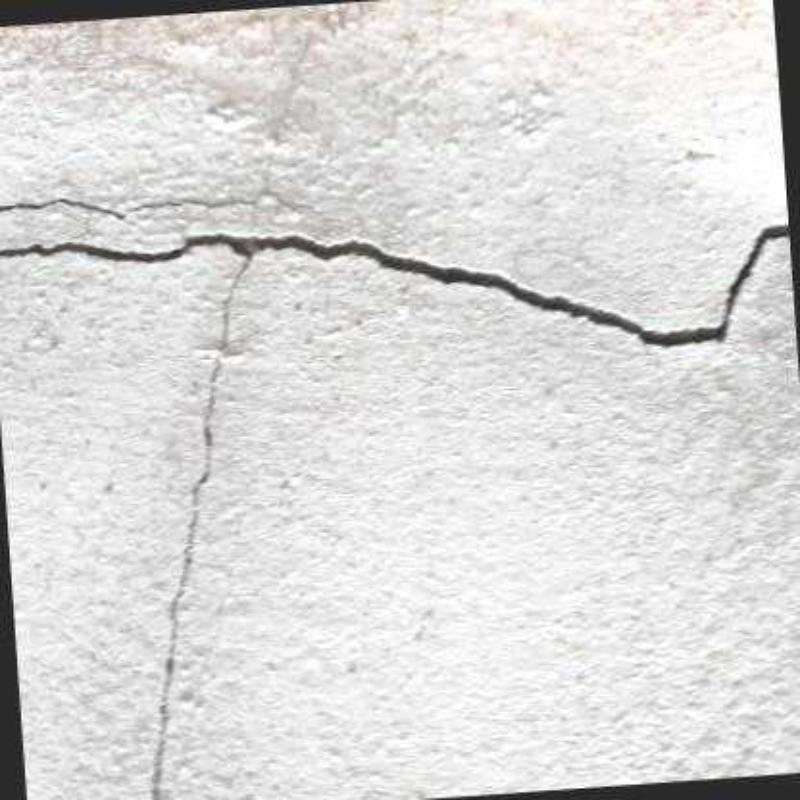pothole: (1, 225, 789, 347), (0, 31, 340, 225), (152, 256, 252, 798)
